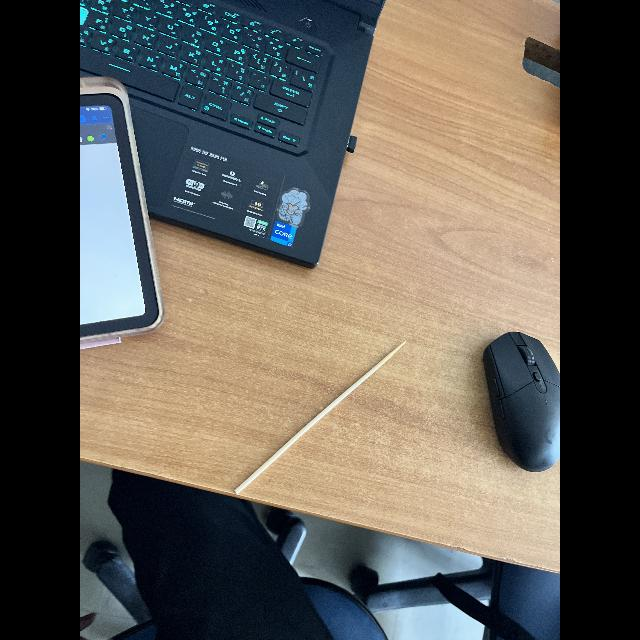stick: (224, 333, 418, 505)
